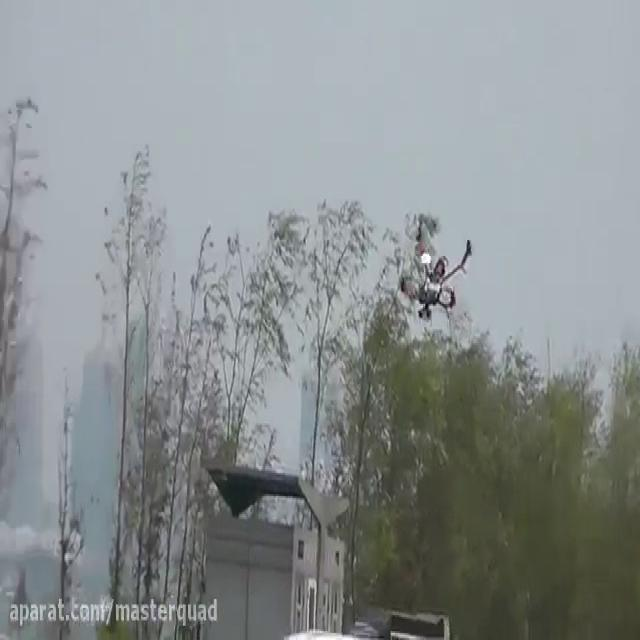drone: (391, 224, 477, 316)
